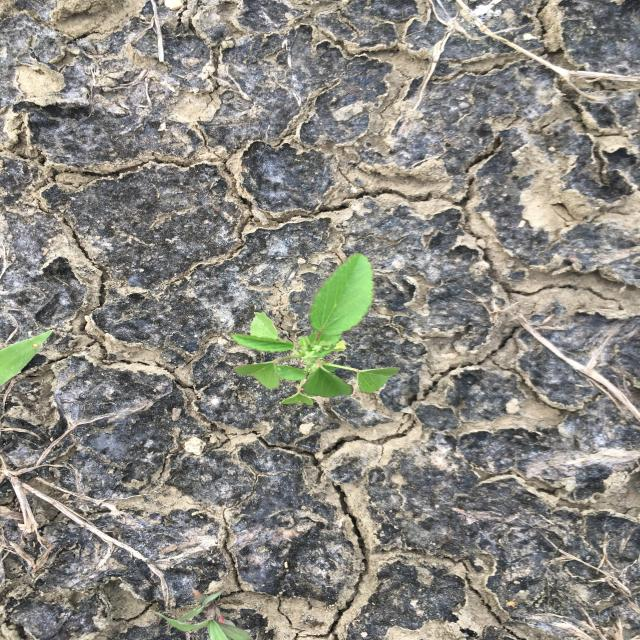PricklySida: (227, 250, 403, 406)
